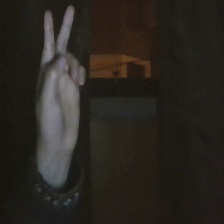K: (28, 1, 96, 166)
